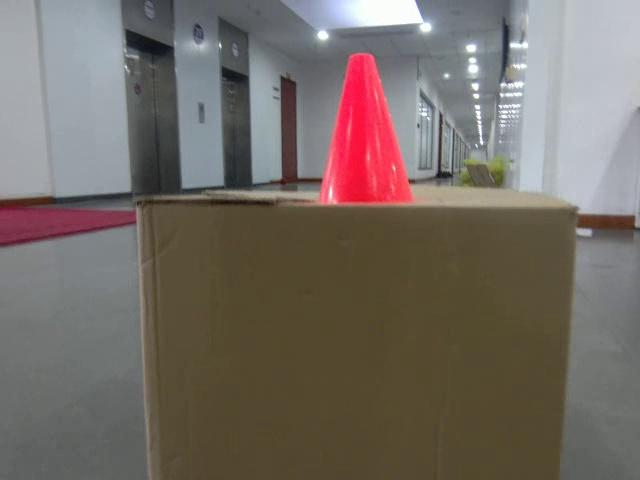orange_barrel: (321, 52, 411, 204)
